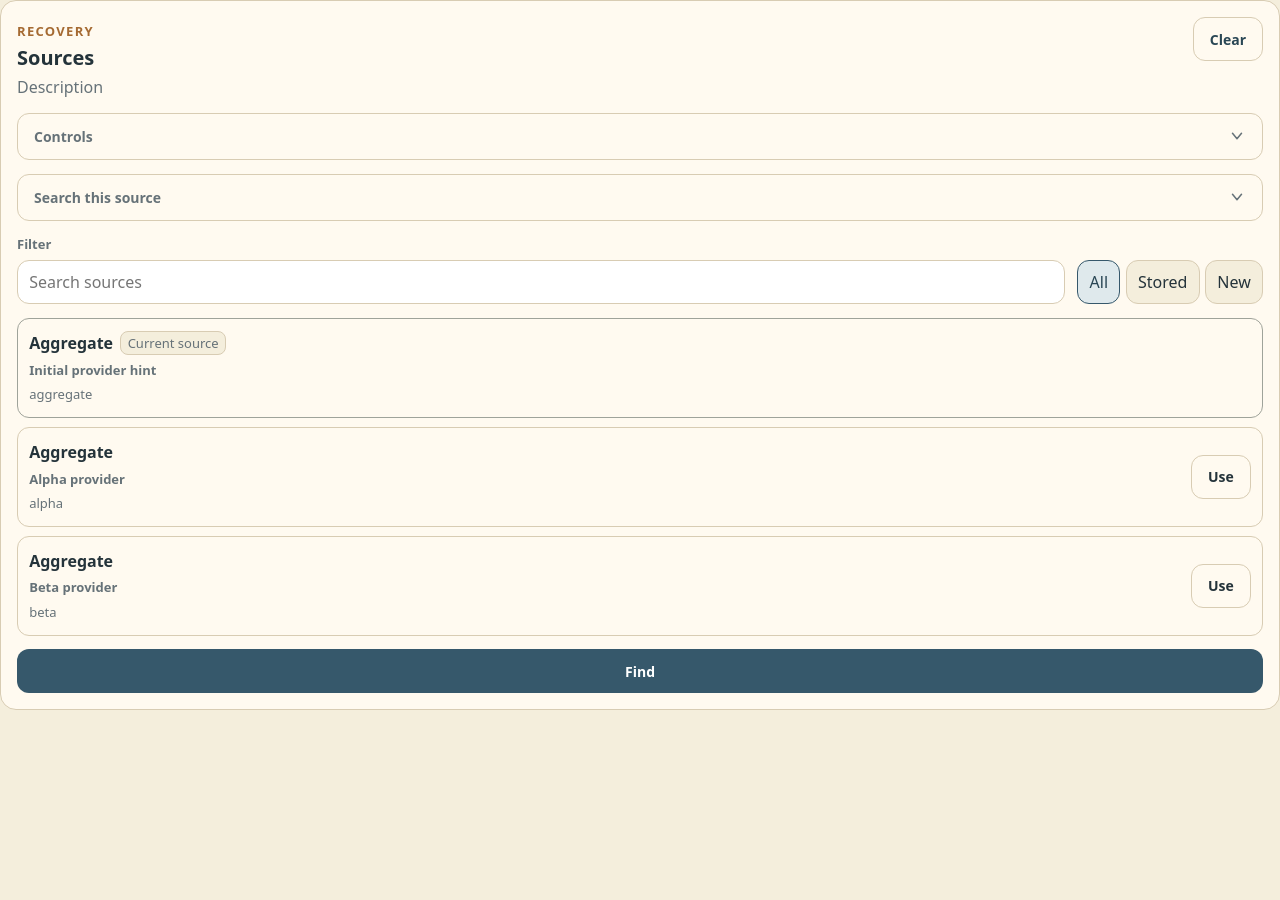
Scenario: SourceRecoveryPanel › filters known bindings by source metadata and display text
The image size is (1280, 900).
In the search field labelled "Filter": (541, 282) top-left (17, 260), bottom-right (1065, 304), type "Beta"
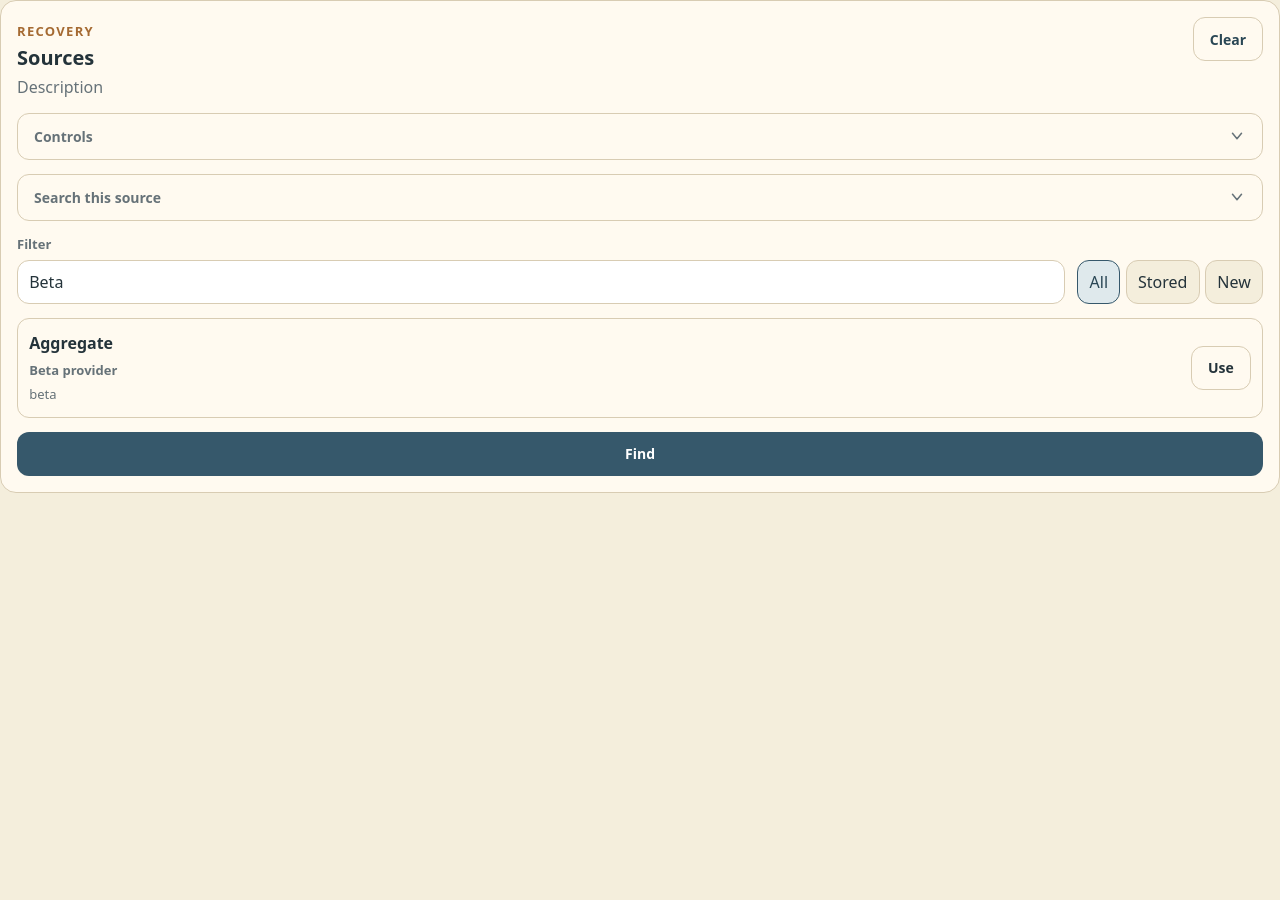
Expected: the text "Beta provider" is shown, top-left (29, 361), bottom-right (117, 379)
Result: the text "Alpha provider" is gone
